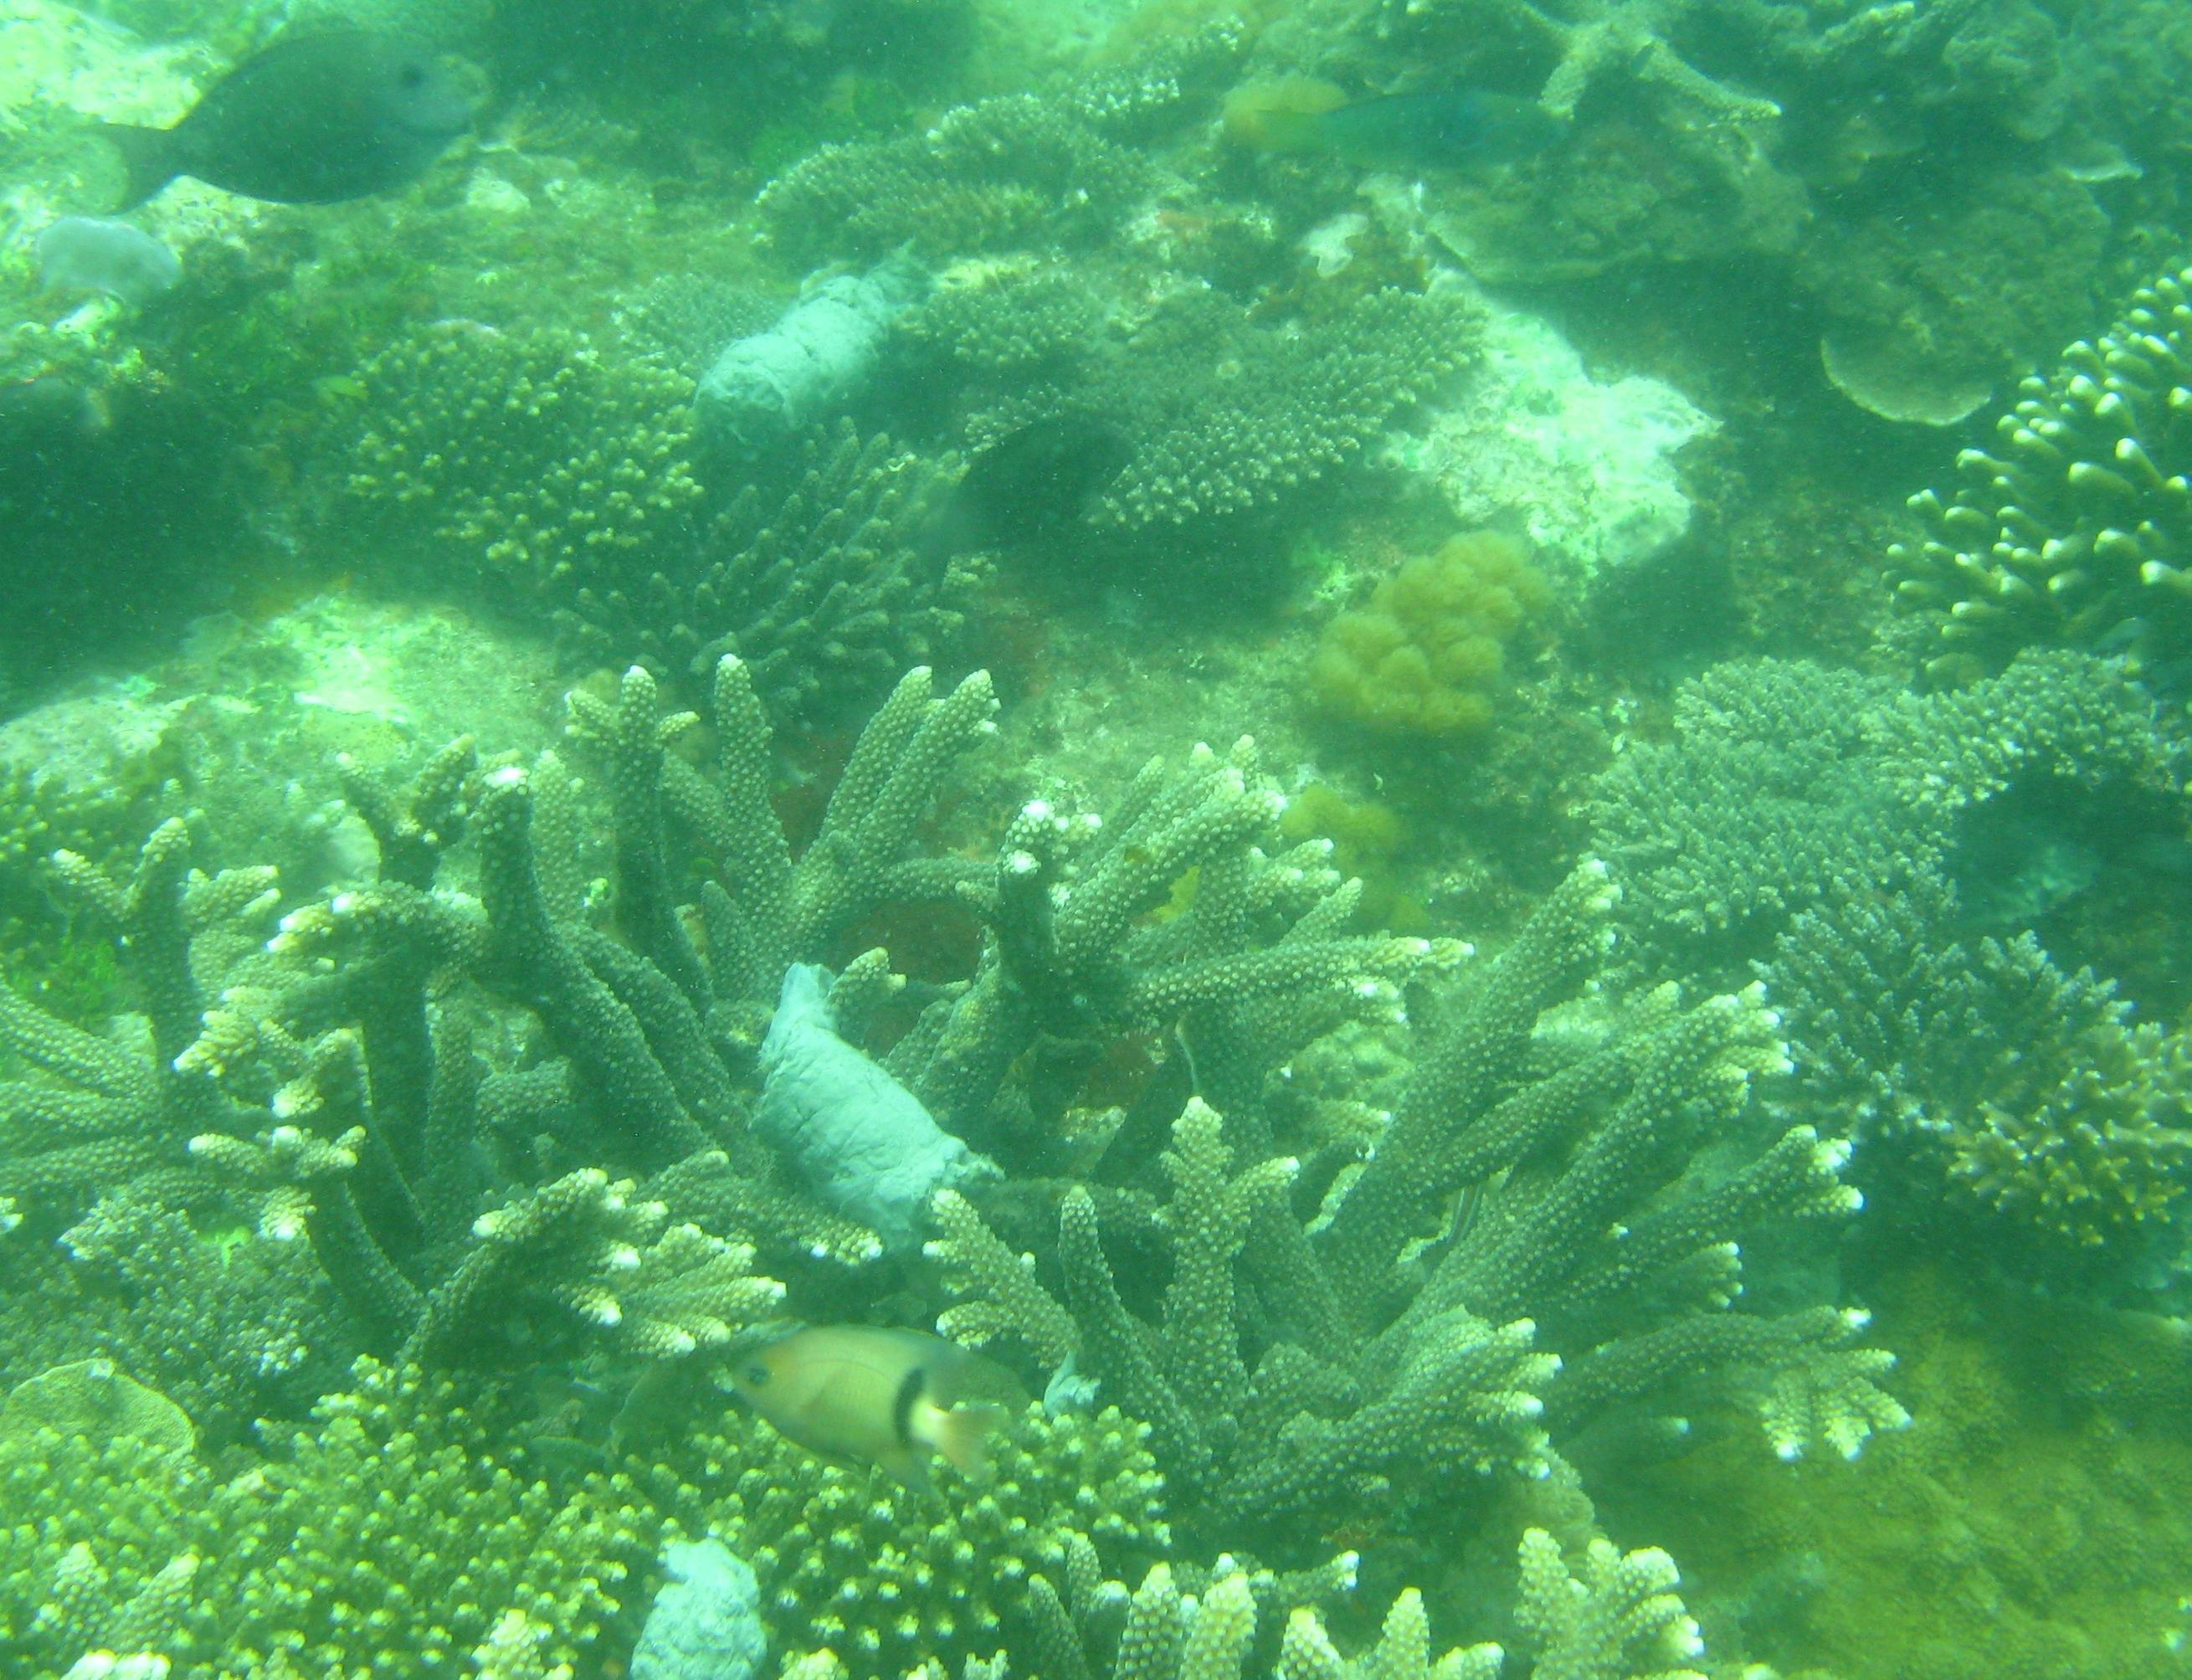Fish: (678, 1292, 1022, 1502)
